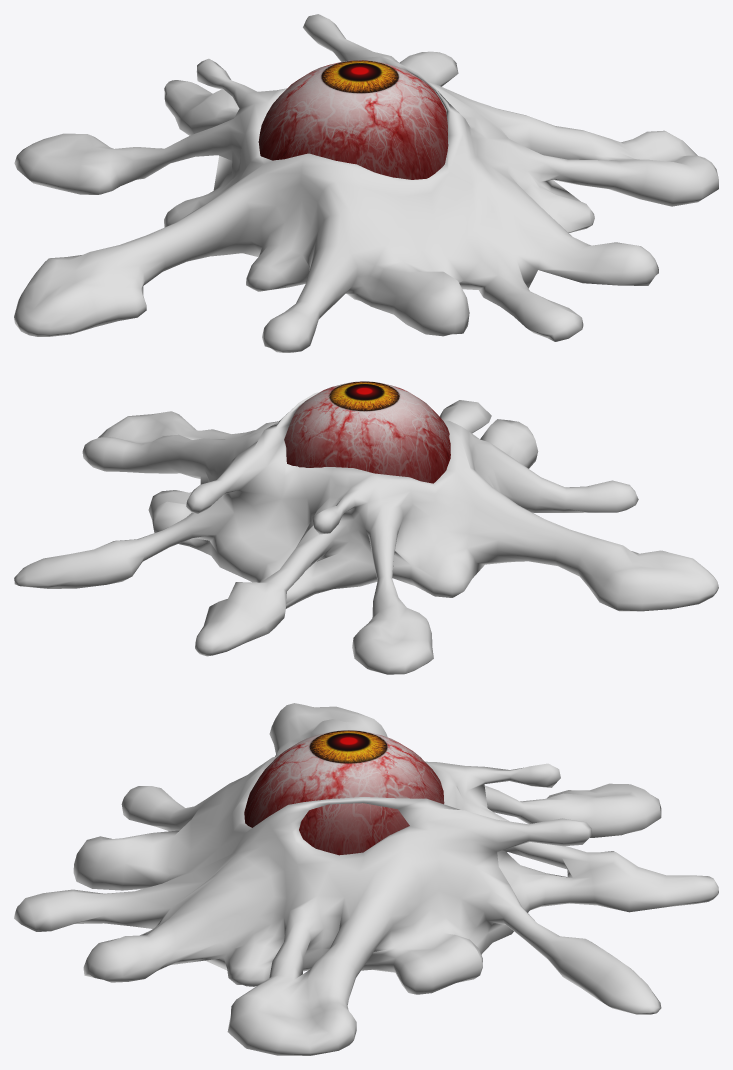
File: Laser.fbx
The picture shows the model from 3 angles, top to bottom: view 1: azimuth 30°, elevation 25°; view 2: azimuth 150°, elevation 25°; view 3: azimuth 270°, elevation 25°; orthographic projection. The views are drawn at different scales.
Visible parts, largest first — view 1: Laser_Blob, Sphere; view 2: Laser_Blob, Sphere; view 3: Laser_Blob, Sphere.
Boxes of the visible parts, <box> form: Laser_Blob: <box>14,14,718,352</box>; Sphere: <box>258,60,448,179</box>; Laser_Blob: <box>14,391,718,674</box>; Sphere: <box>284,381,450,483</box>; Laser_Blob: <box>14,703,718,1055</box>; Sphere: <box>244,730,444,855</box>.
Size of the model in its own units: 761 by 209 by 674.
2 materials, 1 textured.
